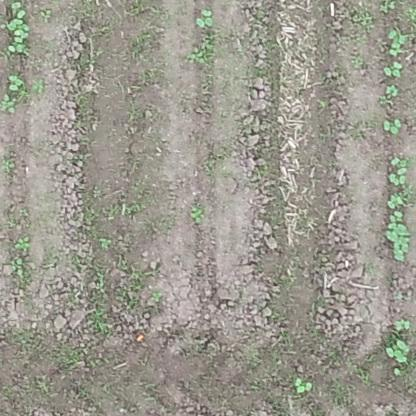vc: (6, 4, 29, 56), (389, 210, 410, 262), (385, 337, 414, 364), (386, 154, 408, 186), (386, 28, 407, 56), (382, 116, 405, 136), (194, 8, 214, 29), (293, 377, 316, 394), (382, 61, 402, 79), (11, 256, 28, 277), (385, 191, 404, 209), (392, 316, 412, 332), (190, 206, 206, 224), (7, 72, 21, 92), (386, 82, 403, 97), (100, 236, 112, 249)
